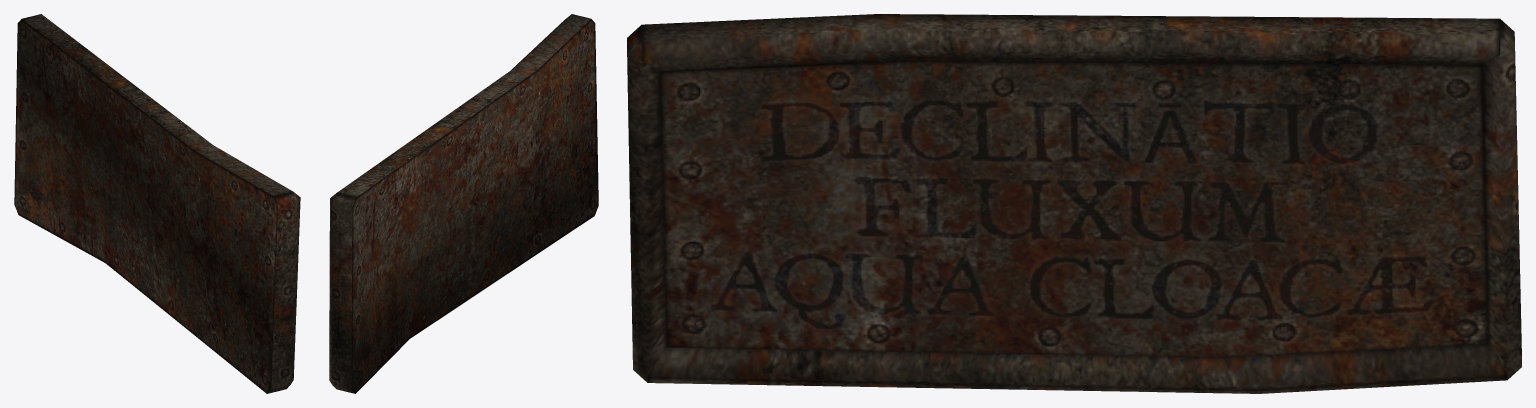
The model's file is sign_cistern.dae.
3 renders of one model, left to right at view 1: azimuth 30°, elevation 25°; view 2: azimuth 150°, elevation 25°; view 3: azimuth 270°, elevation 25°, orthographic. The views are drawn at different scales.
Parts seen in each view (by area): view 1: oil_drainage; view 2: oil_drainage; view 3: oil_drainage.
Part boxes in pixels (x1,y1,x2,y2): oil_drainage: (14,14,300,393); oil_drainage: (329,14,598,393); oil_drainage: (627,14,1521,393).
Size of the model in its own units: 0.1377 by 0.5541 by 1.3.
